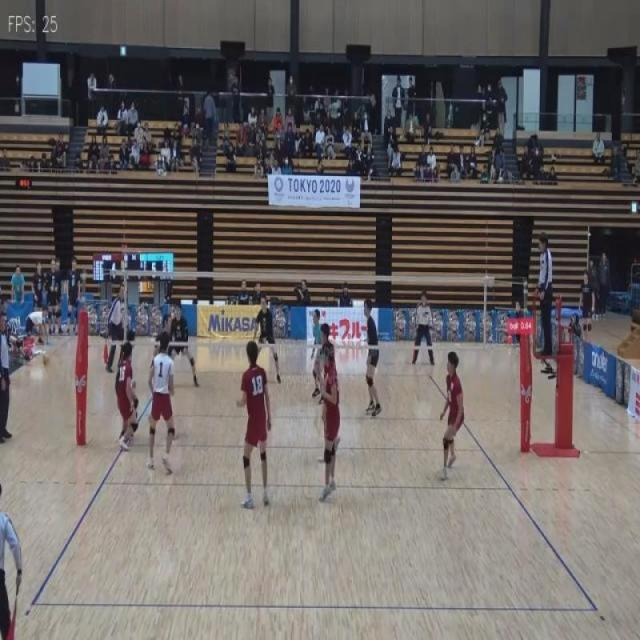volleyball: (42, 354, 52, 368)
